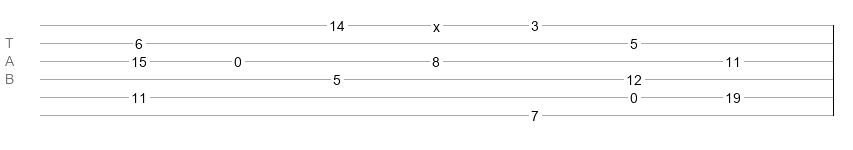0: (234, 54, 242, 64), (630, 90, 638, 100)
11: (131, 90, 147, 100), (725, 54, 741, 64)
12: (626, 72, 642, 82)
14: (329, 18, 345, 28)
15: (131, 54, 147, 64)
19: (725, 90, 741, 100)
3: (531, 18, 539, 28)
5: (333, 72, 341, 82), (630, 36, 638, 46)
6: (135, 36, 143, 46)
7: (531, 108, 539, 118)
8: (432, 54, 440, 64)
x: (433, 19, 440, 27)
